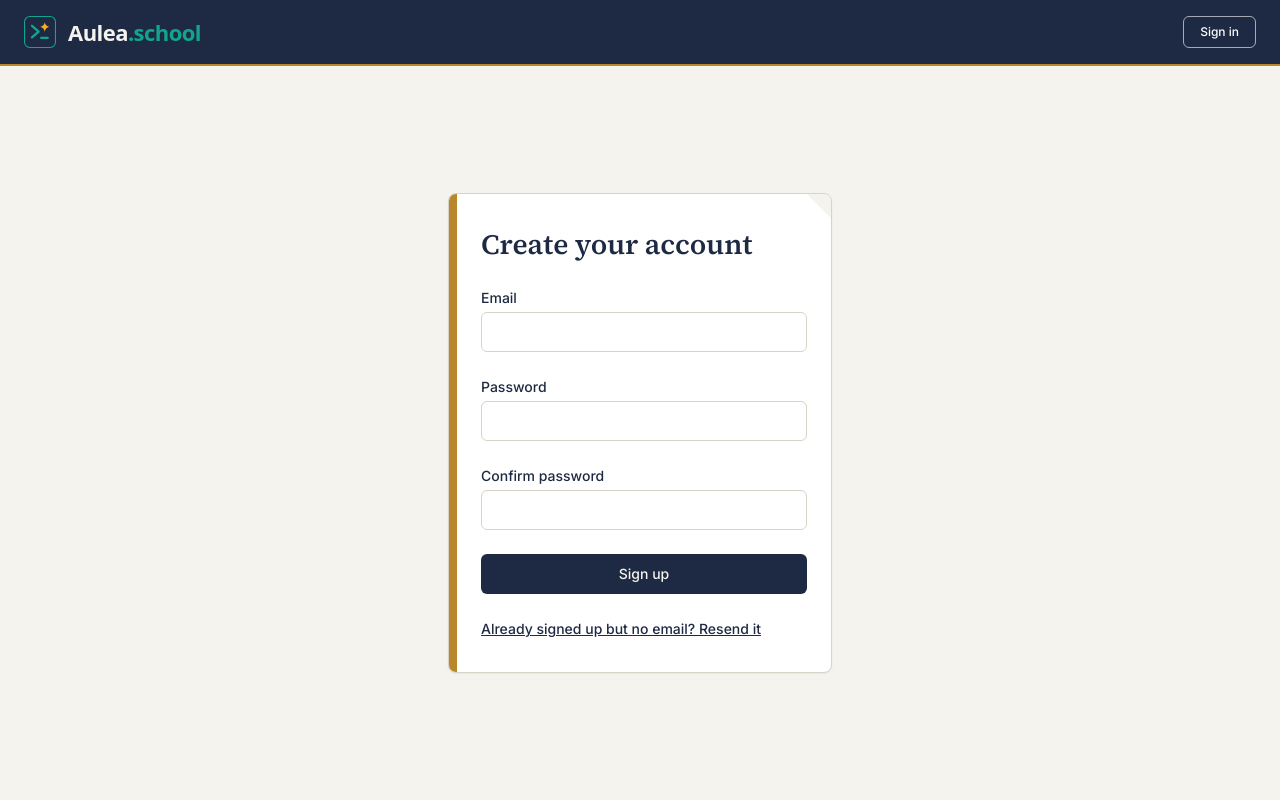
Scenario: SignUpConfirmation resend button (RESEND-CONFIRMATION-001) › puts the countdown back from Retry-After on a 429
In the field labelled "Email": point(644, 332) [481,312,807,352], type "new@example.com"
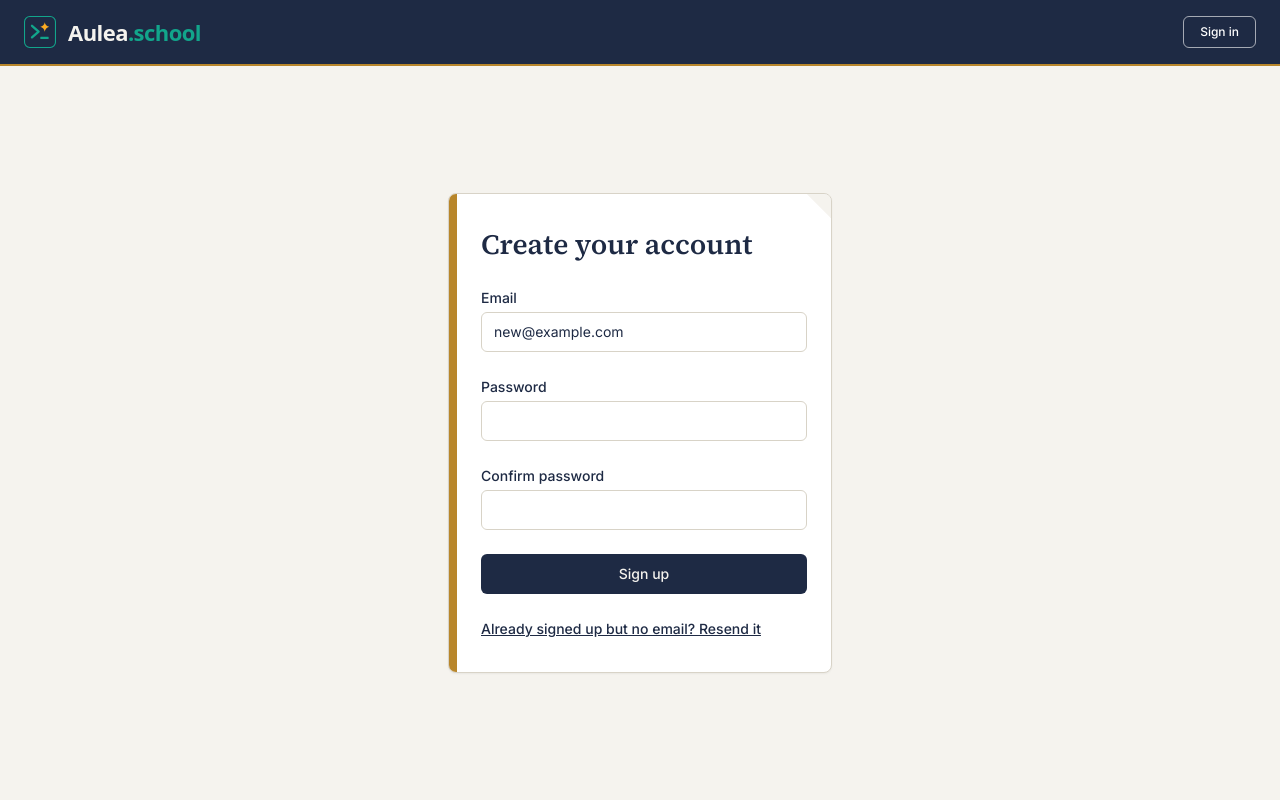
In the password field labelled "Password": point(644, 421) [481,401,807,441], type "longenough"
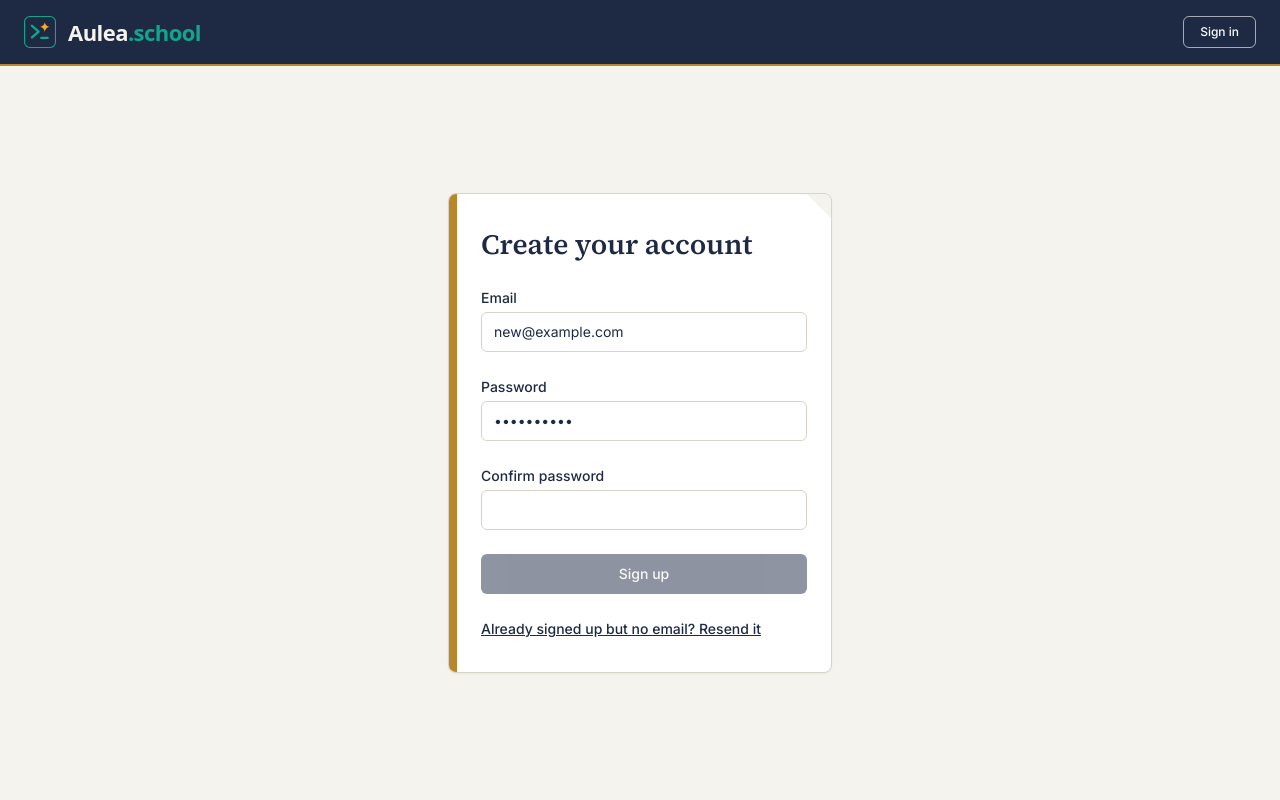
In the password field labelled "Confirm password": point(644, 510) [481,490,807,530], type "longenough"
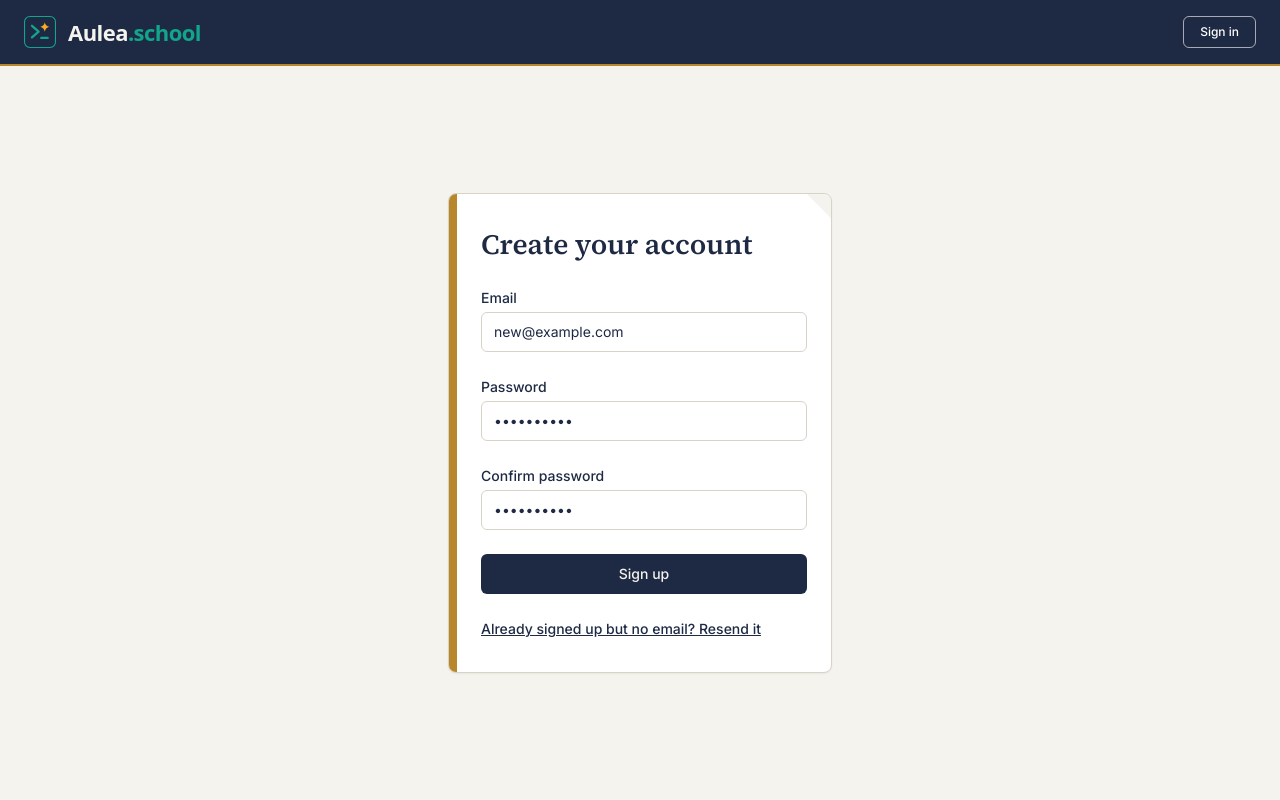
Click the button "Sign up": point(644, 574) [481,554,807,594]
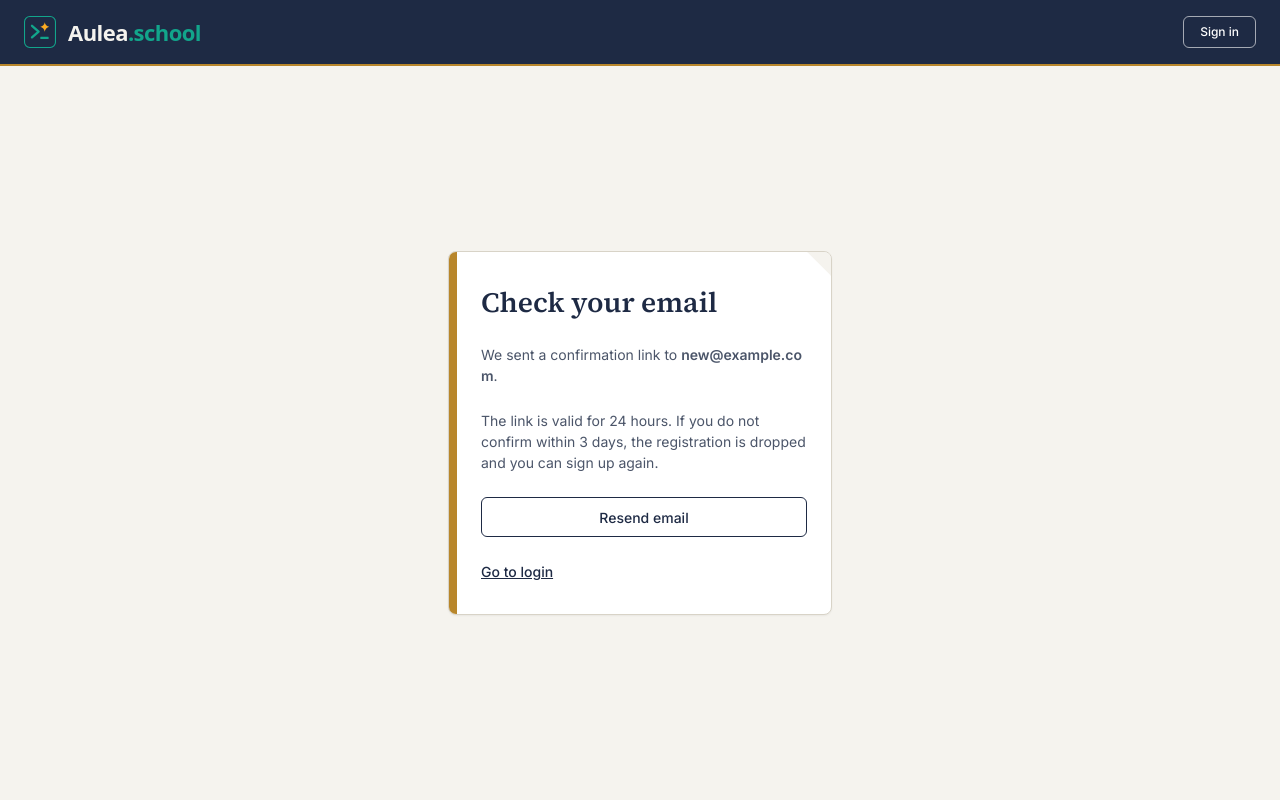
Expected: the heading "Check your email" is shown, [481,283,718,321]
Click the button "Resend email": point(644, 517) [481,497,807,537]
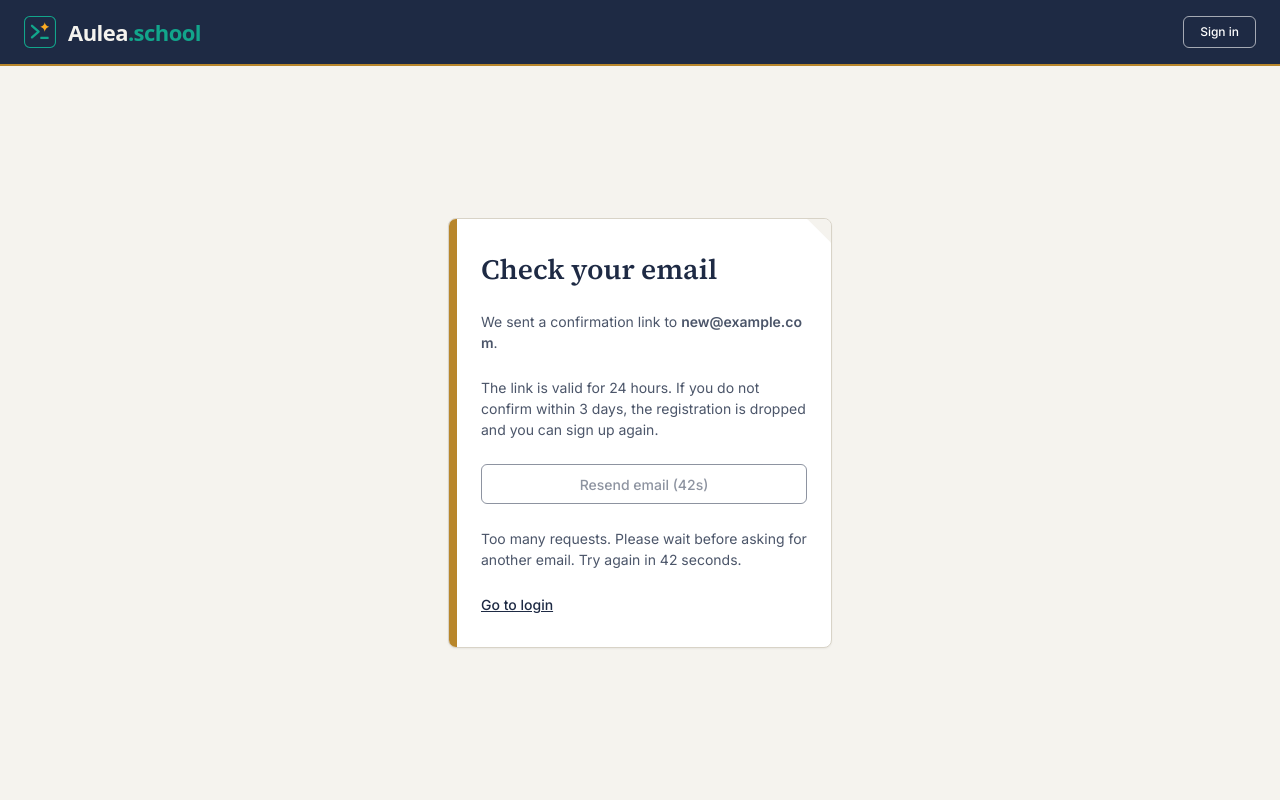
Expected: the button "Resend email (42s)" is shown, [481,464,807,504]
Expected: the message shows "Too many requests", [481,530,807,568]
Expected: the message shows "try again in 42 seconds", [575,551,742,568]
